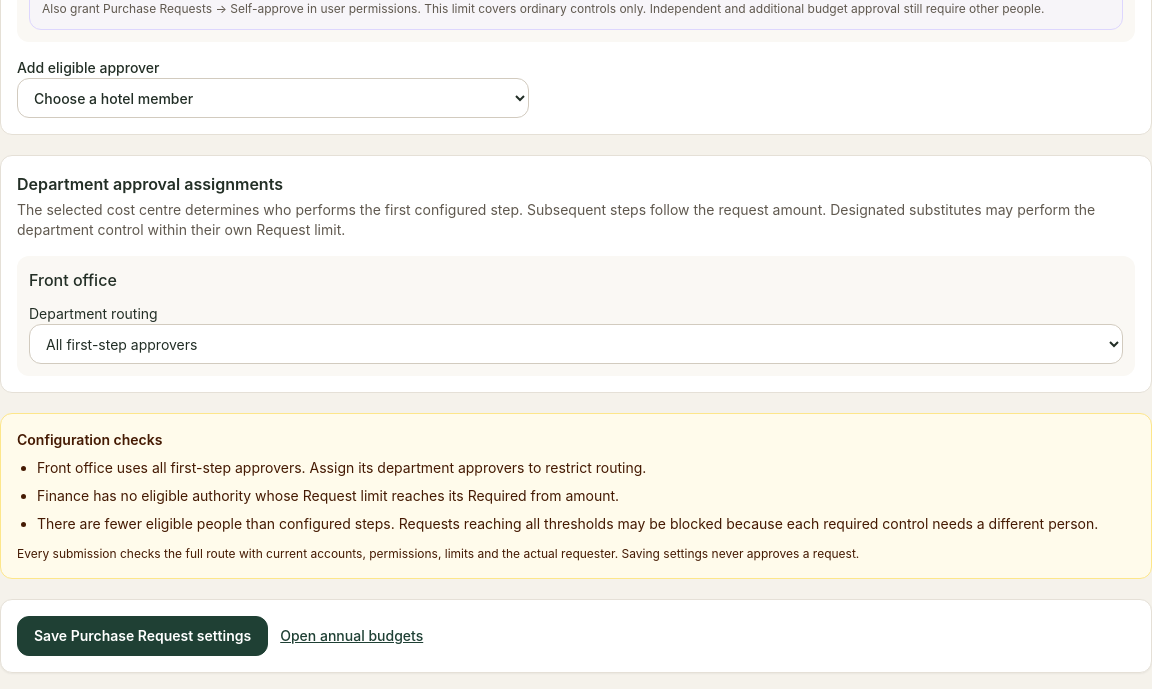
warns about unstaffed departments, limits below thresholds and ungranted self-approval
The image size is (1152, 689).
(page scrolled)
Select "Department-specific approvers" in the dropdown named "Front office department routing": (576, 344) [29,324,1123,364]
(page scrolled)
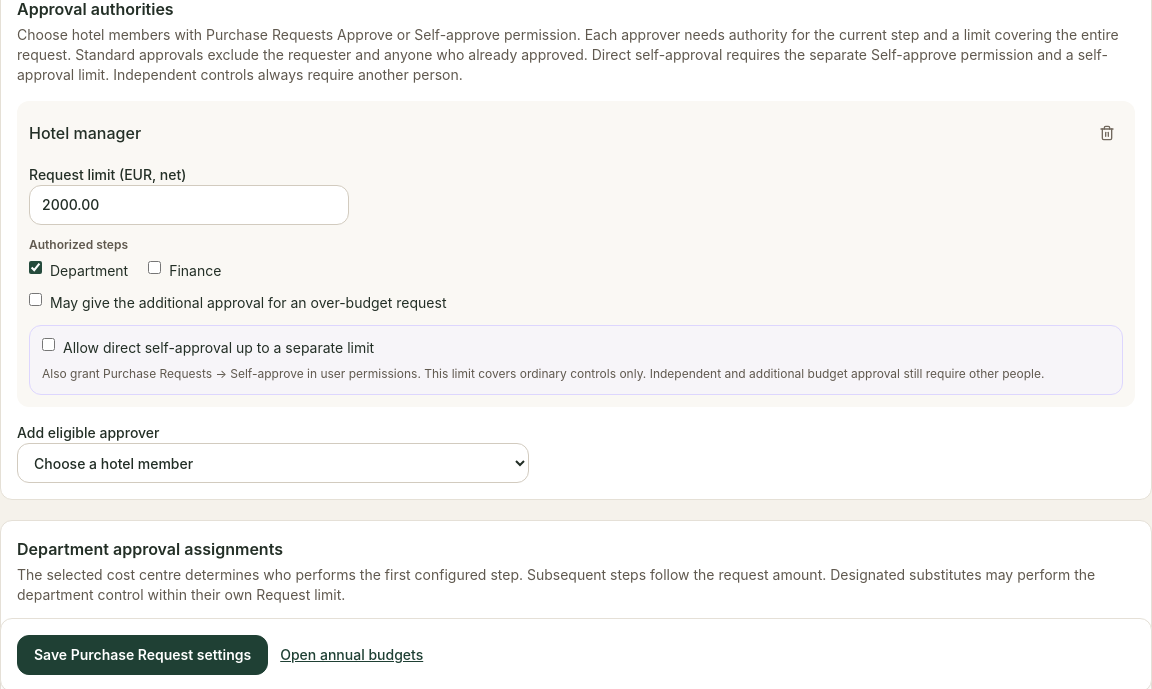
Click the checkbox named "Hotel manager self-approval limit enabled": (48, 344) [42,338,55,351]
(page scrolled)
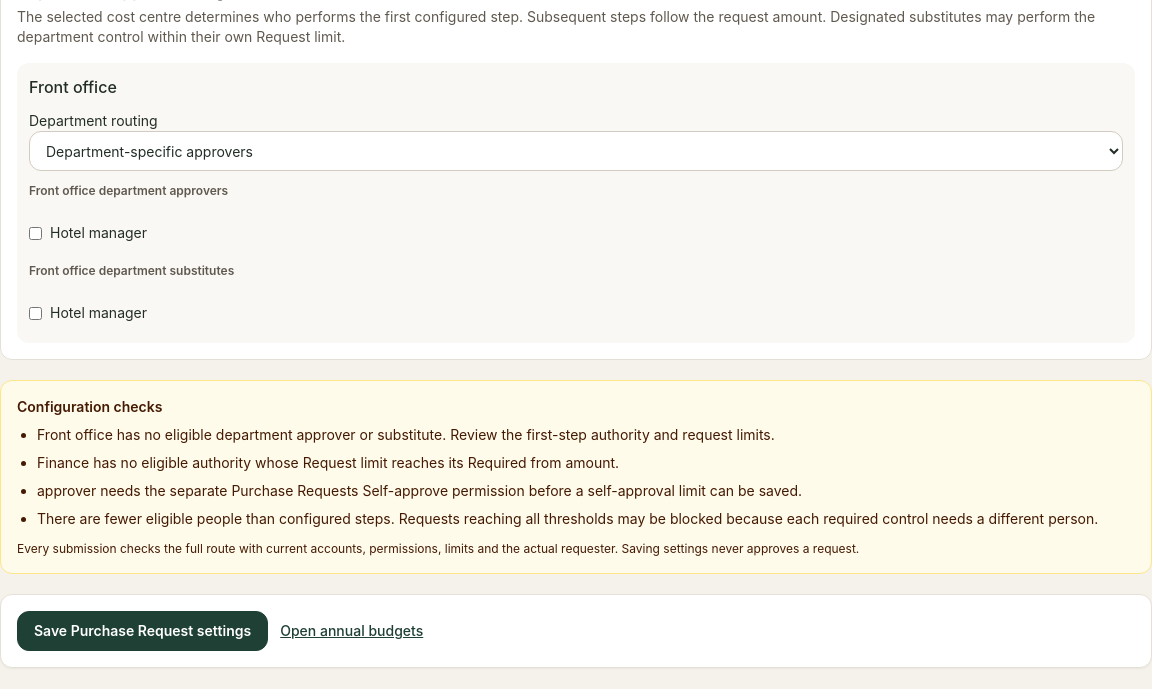
Expected: the list item "Finance has no eligible authority" is shown, [37,454,619,471]
Now the list item "Front office has no eligible department approver" is shown, box [37,426,775,443]
Now the list item "needs the separate Purchase Requests Self-approve permission" is shown, box [37,482,802,499]
